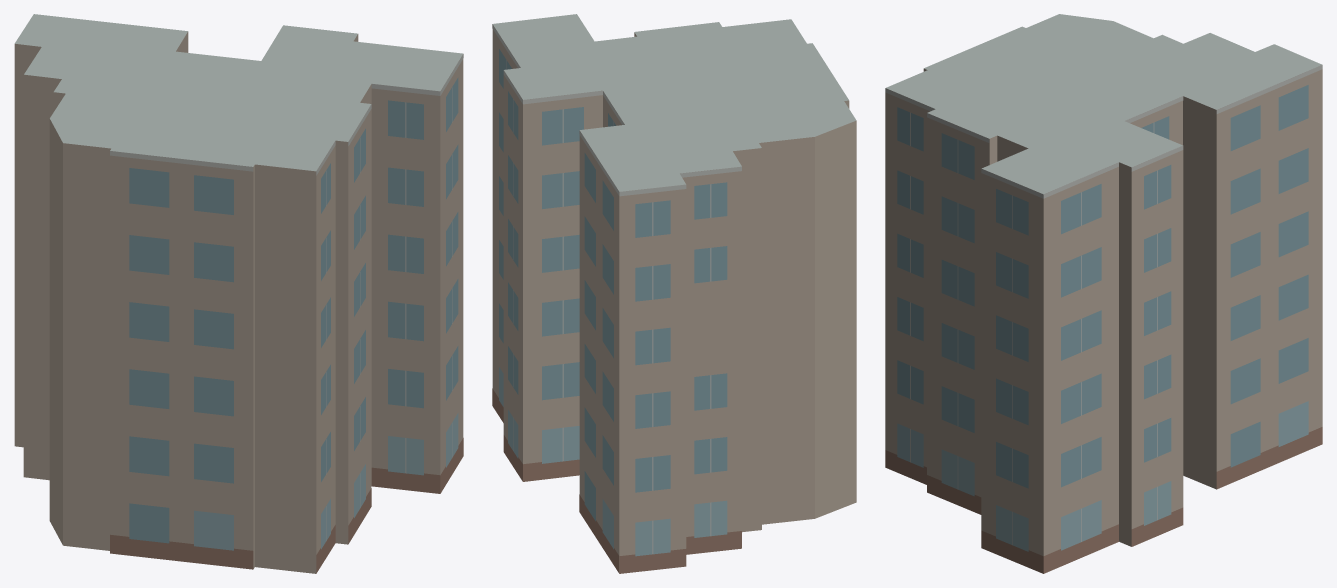
Rendered from survey-upis-33011115.glb.
The picture shows the model from 3 angles, left to right: view 1: azimuth 30°, elevation 25°; view 2: azimuth 150°, elevation 25°; view 3: azimuth 270°, elevation 25°; orthographic projection. The views are drawn at different scales.
Visible parts, largest first — view 1: survey-upis-33011115.tmp; view 2: survey-upis-33011115.tmp; view 3: survey-upis-33011115.tmp.
Boxes of the visible parts, box(x1,y1,x2,y2) form: survey-upis-33011115.tmp: box(14, 14, 463, 573); survey-upis-33011115.tmp: box(492, 14, 856, 573); survey-upis-33011115.tmp: box(885, 14, 1322, 573).
Size of the model in its own units: 21.23 by 20.83 by 21.75.
